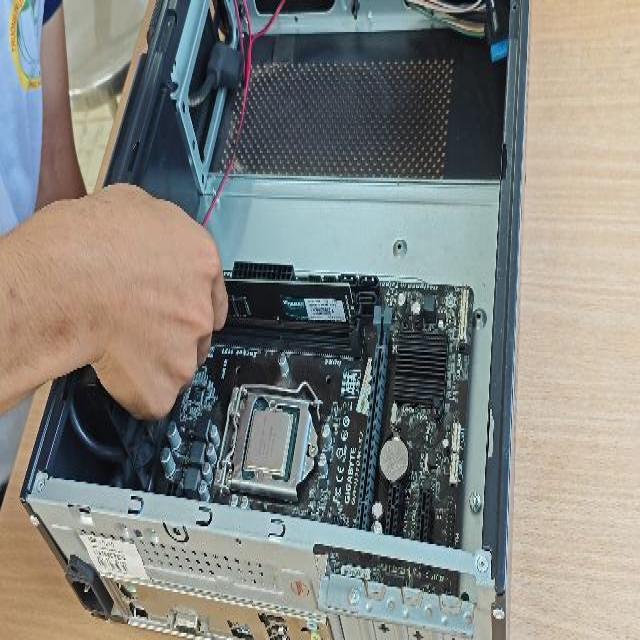CPU: (242, 404, 295, 482)
Mainboard: (108, 260, 474, 599)
RAM: (215, 273, 356, 326)
